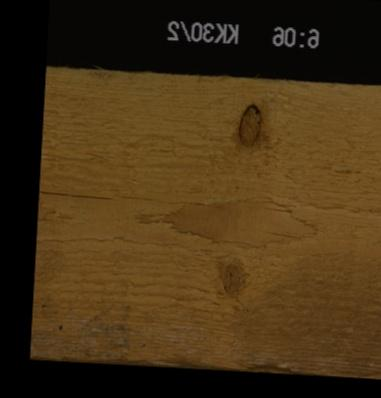dry_knot: (236, 102, 263, 148)
sound_knot: (215, 258, 246, 299)
split: (38, 190, 111, 199), (264, 229, 300, 237), (260, 204, 292, 212)
wave: (154, 356, 299, 369)
